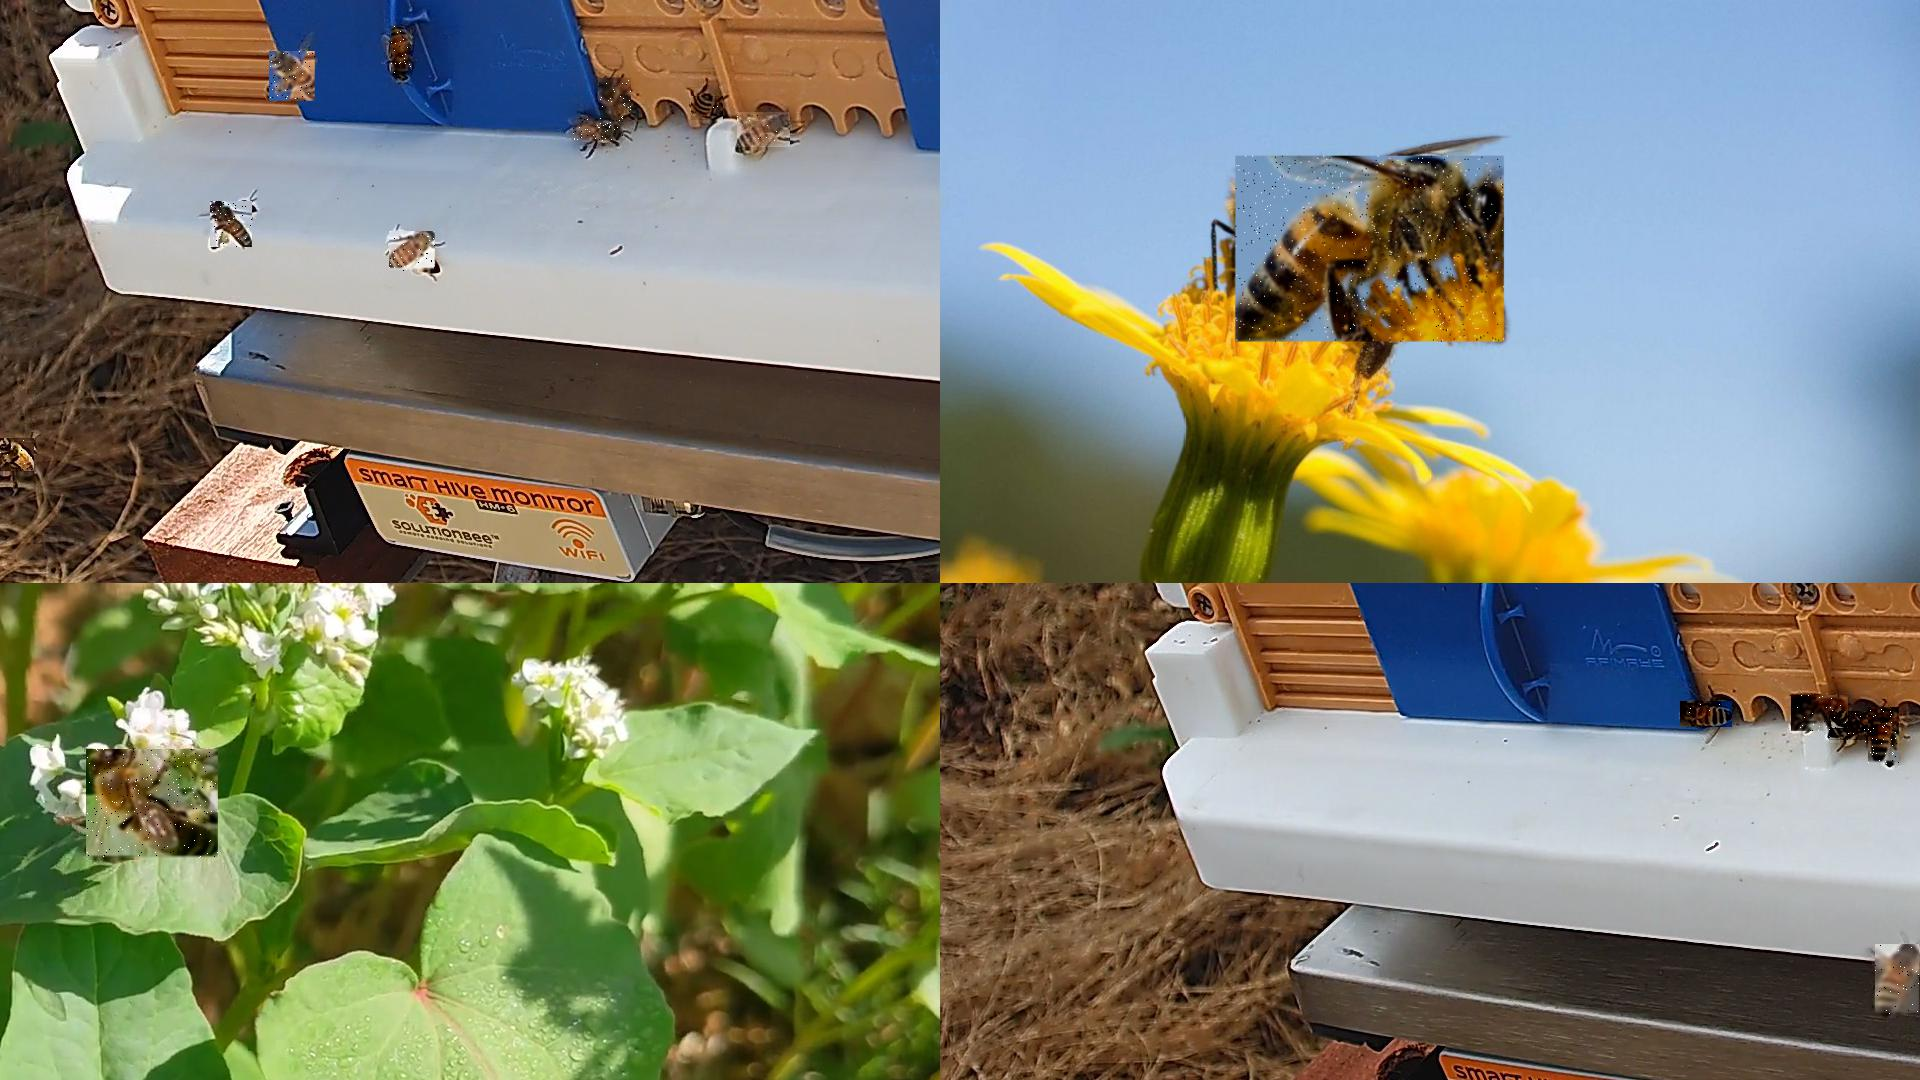bee: (1236, 156, 1505, 343), (86, 749, 219, 861), (1874, 944, 1919, 1015), (269, 51, 316, 102), (1791, 695, 1849, 732), (737, 113, 791, 150), (389, 232, 436, 273), (1680, 702, 1733, 728), (0, 438, 36, 476), (574, 116, 624, 142), (599, 79, 632, 113), (392, 26, 413, 79), (691, 96, 724, 124)
pollenbee: (210, 200, 253, 248), (1869, 708, 1900, 766), (1829, 712, 1878, 744)
